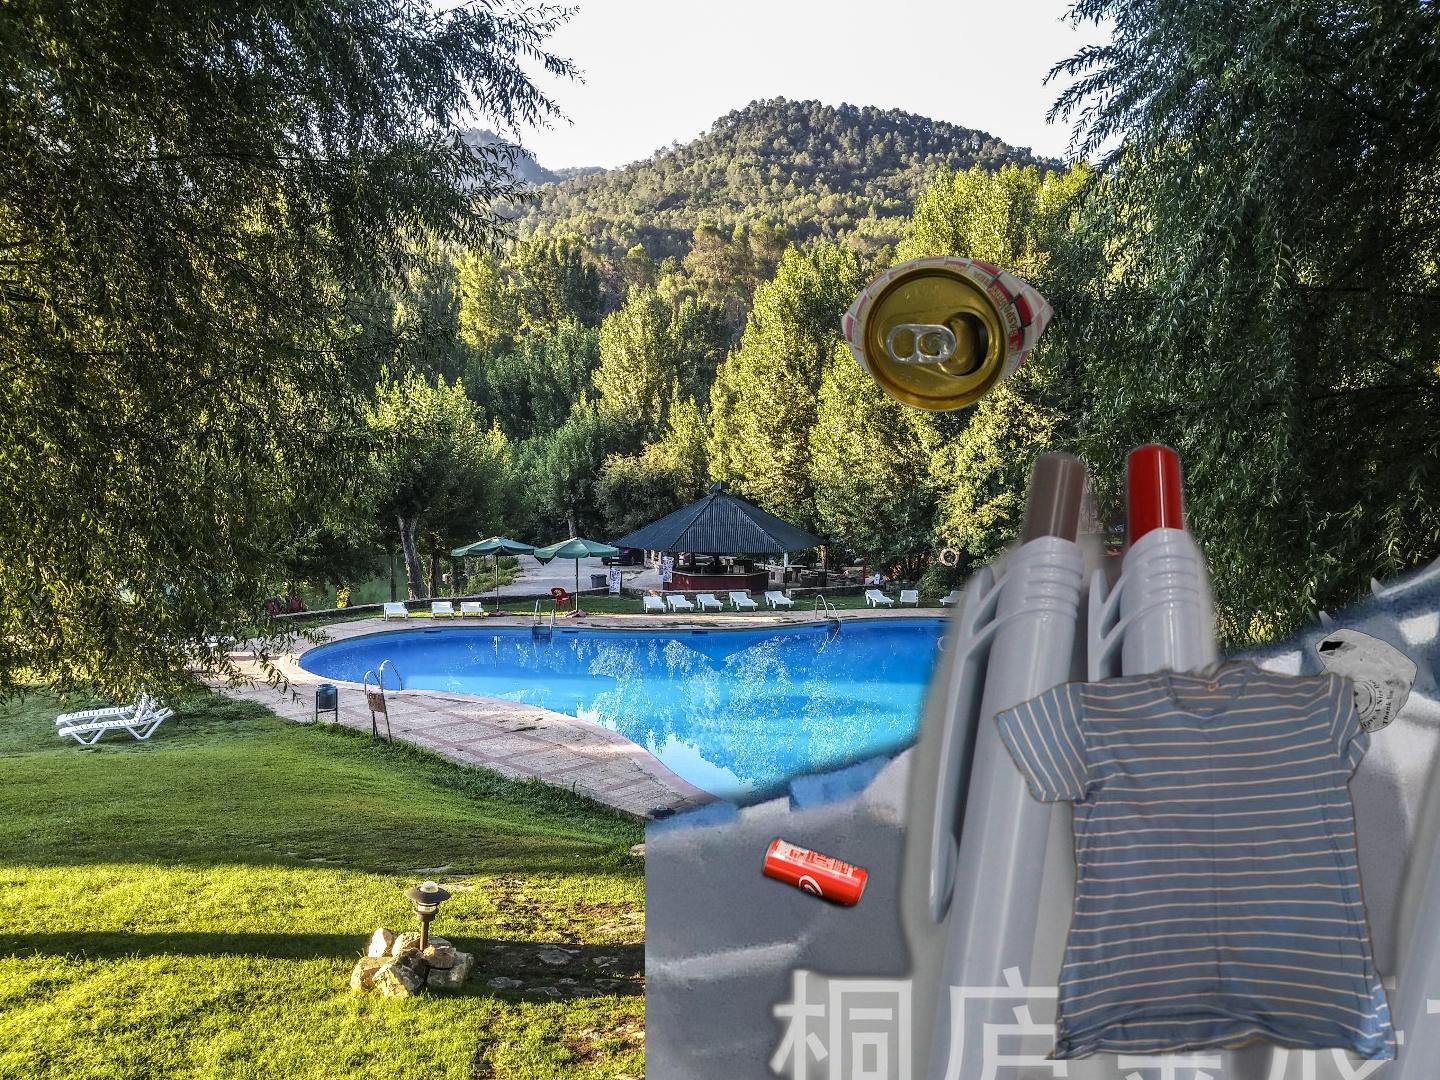clothes: (988, 660, 1404, 1060)
metal-cans: (836, 252, 1058, 416), (757, 830, 873, 914)
penholder: (749, 412, 1440, 1080)
plastic-bag: (1318, 520, 1440, 766), (1289, 626, 1420, 736)
trashbox-cardboard: (645, 351, 1440, 1080)
